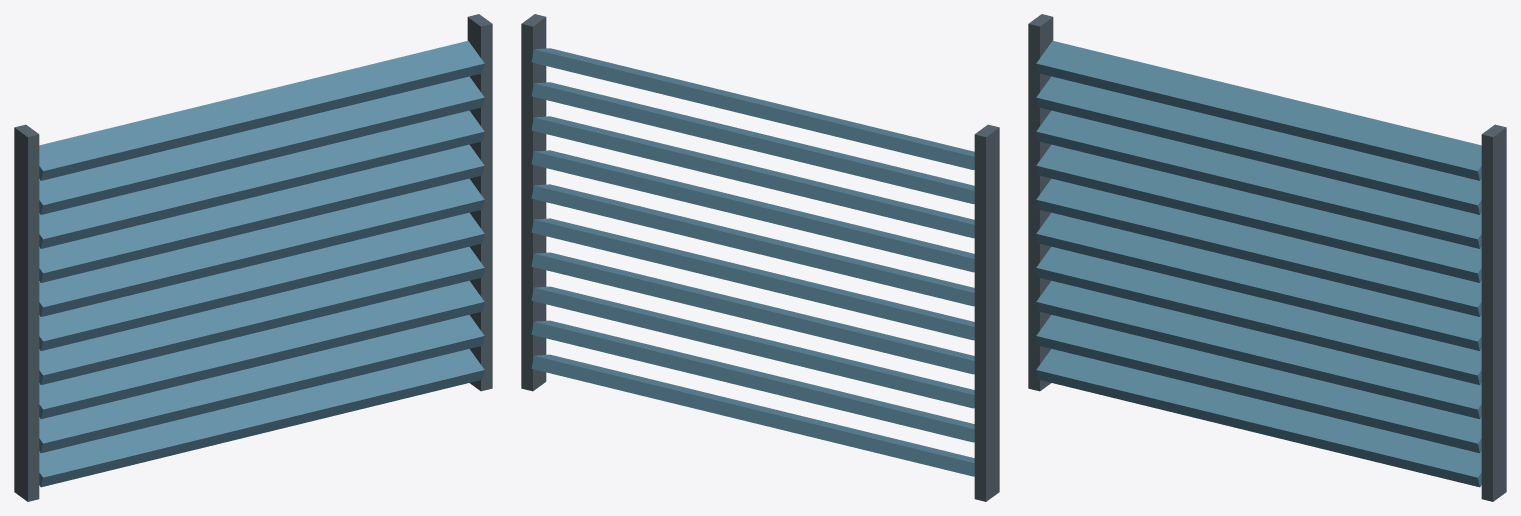
The model's file is american-football-stadium-kit-facade-louvers-bba1d45c__22362.glb.
The picture shows the model from 3 angles, left to right: view 1: azimuth 30°, elevation 25°; view 2: azimuth 150°, elevation 25°; view 3: azimuth 330°, elevation 25°; orthographic projection.
Parts seen in each view (by area): view 1: facade-louvers; view 2: facade-louvers; view 3: facade-louvers.
Part boxes in pixels (x1=…): facade-louvers: x1=14, y1=14, x2=492, y2=501; facade-louvers: x1=521, y1=14, x2=999, y2=501; facade-louvers: x1=1028, y1=14, x2=1506, y2=501.
Bounding box in the file's own units: 4 × 3 × 0.2783.
